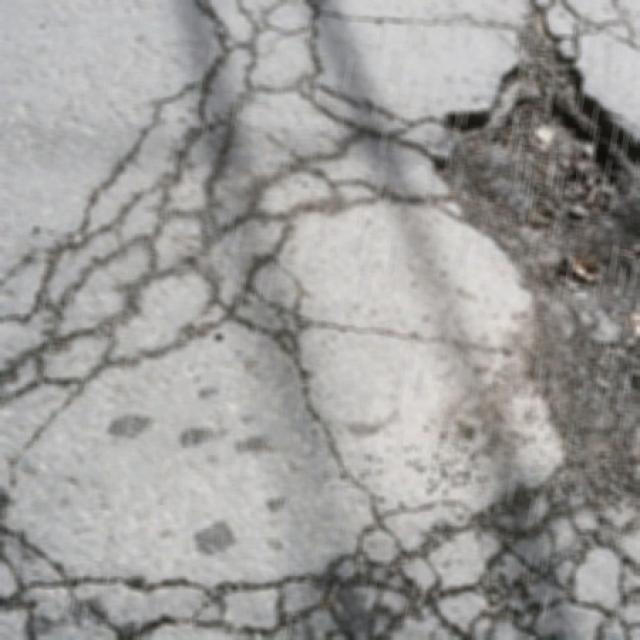road-pothole: (423, 0, 639, 494)
